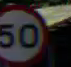Speed limit: (1, 2, 46, 64)
